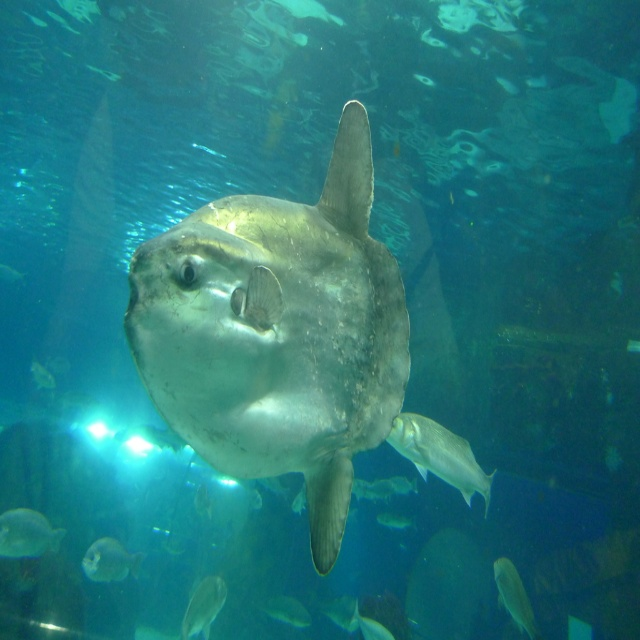Fish: (0, 101, 541, 640)
